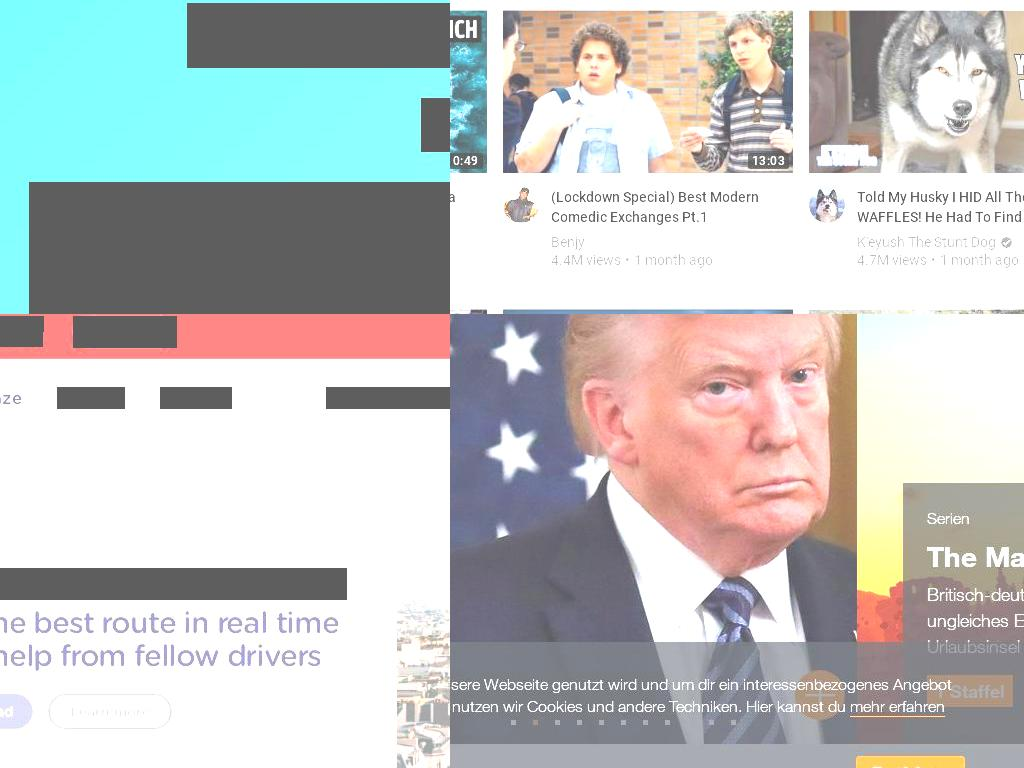button: (450, 314, 1024, 744), (502, 10, 794, 174), (809, 10, 1024, 174), (550, 187, 770, 228), (857, 187, 1024, 228), (48, 704, 172, 741), (73, 316, 177, 348), (326, 387, 450, 409), (857, 233, 998, 252), (849, 697, 945, 717), (160, 387, 232, 409), (57, 387, 125, 409), (502, 187, 539, 224), (809, 187, 846, 224), (856, 756, 966, 768), (0, 704, 33, 741), (550, 233, 587, 252), (0, 387, 22, 409)
heading: (0, 623, 347, 690), (0, 568, 347, 600), (550, 187, 770, 228), (857, 187, 1024, 228)
image: (29, 182, 450, 314), (502, 10, 794, 174), (809, 10, 1024, 174), (502, 187, 539, 224), (809, 187, 846, 224), (1000, 235, 1014, 249)
text: (450, 675, 952, 716), (187, 3, 450, 68), (550, 251, 634, 270), (857, 251, 941, 270), (633, 251, 713, 270), (940, 251, 1020, 270), (0, 316, 44, 332), (0, 332, 43, 347), (751, 155, 786, 168), (450, 155, 479, 168)
